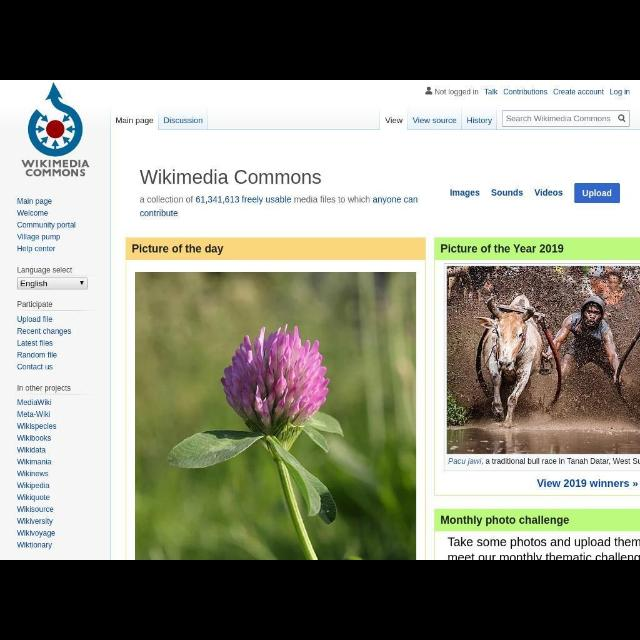icon: (617, 112, 627, 124), (424, 85, 434, 97), (75, 279, 85, 289)
image: (136, 272, 414, 556), (447, 264, 638, 456)
input: (502, 111, 628, 129)
link: (447, 458, 483, 467)
multitab: (113, 108, 631, 130)
spinner: (17, 276, 87, 290)
text: (135, 274, 415, 558), (136, 195, 420, 221), (23, 81, 91, 180), (448, 538, 638, 558), (140, 166, 322, 186), (440, 512, 570, 528), (447, 458, 639, 468), (440, 242, 564, 255), (538, 476, 638, 488), (130, 242, 224, 254), (506, 115, 610, 123), (18, 384, 72, 394), (17, 328, 73, 337), (18, 349, 58, 361), (15, 266, 74, 274), (19, 222, 77, 230), (553, 88, 607, 96), (15, 338, 55, 348), (18, 528, 58, 538), (117, 115, 153, 126), (504, 86, 548, 95), (450, 187, 482, 199), (582, 188, 614, 200), (18, 245, 56, 255), (17, 300, 55, 310), (17, 208, 48, 220), (15, 422, 56, 431), (412, 116, 458, 124), (434, 88, 480, 96), (535, 187, 563, 200), (18, 233, 62, 241), (14, 412, 52, 421), (16, 480, 50, 490), (160, 116, 202, 124), (491, 188, 524, 198), (17, 362, 53, 371), (16, 506, 56, 514), (15, 469, 50, 478), (16, 398, 54, 406), (15, 434, 52, 442), (17, 196, 53, 204), (17, 316, 53, 324), (17, 494, 53, 502), (17, 516, 53, 524), (608, 86, 632, 98), (19, 458, 53, 466), (18, 540, 52, 548), (466, 116, 492, 125), (18, 446, 46, 454), (383, 115, 403, 125), (18, 281, 48, 287), (484, 87, 498, 97)
textbutton: (574, 182, 622, 205)
